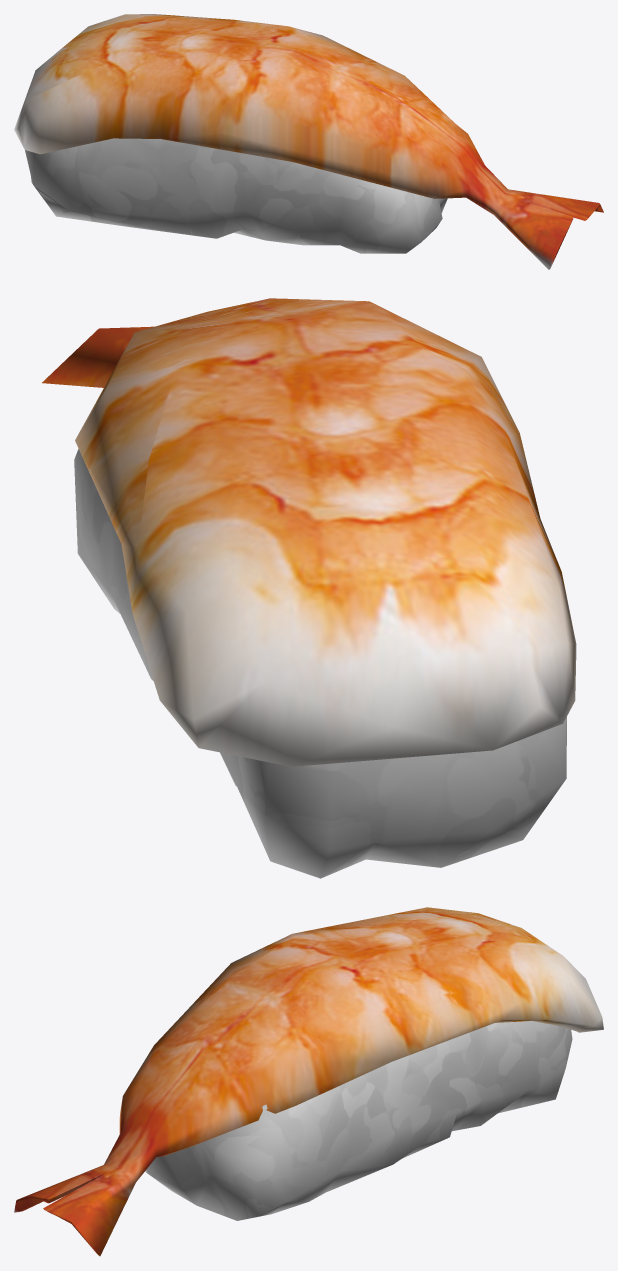
File: _bisushi.fbx
3 views of the same model, one above another, from view 1: azimuth 30°, elevation 25°; view 2: azimuth 150°, elevation 25°; view 3: azimuth 270°, elevation 25° (orthographic). The views are drawn at different scales.
Visible parts, largest first — view 1: Salmon 4.001, Riceball 4.001; view 2: Salmon 4.001, Riceball 4.001; view 3: Salmon 4.001, Riceball 4.001.
Part boxes in pixels (x1,y1,x2,y2): Salmon 4.001: [14, 14, 603, 269]; Riceball 4.001: [25, 127, 447, 253]; Salmon 4.001: [42, 298, 576, 766]; Riceball 4.001: [74, 449, 566, 878]; Salmon 4.001: [14, 907, 603, 1256]; Riceball 4.001: [145, 1021, 572, 1220].
Bounding box in the file's own units: 119 × 47.17 × 128.
2 materials, 2 textured.
